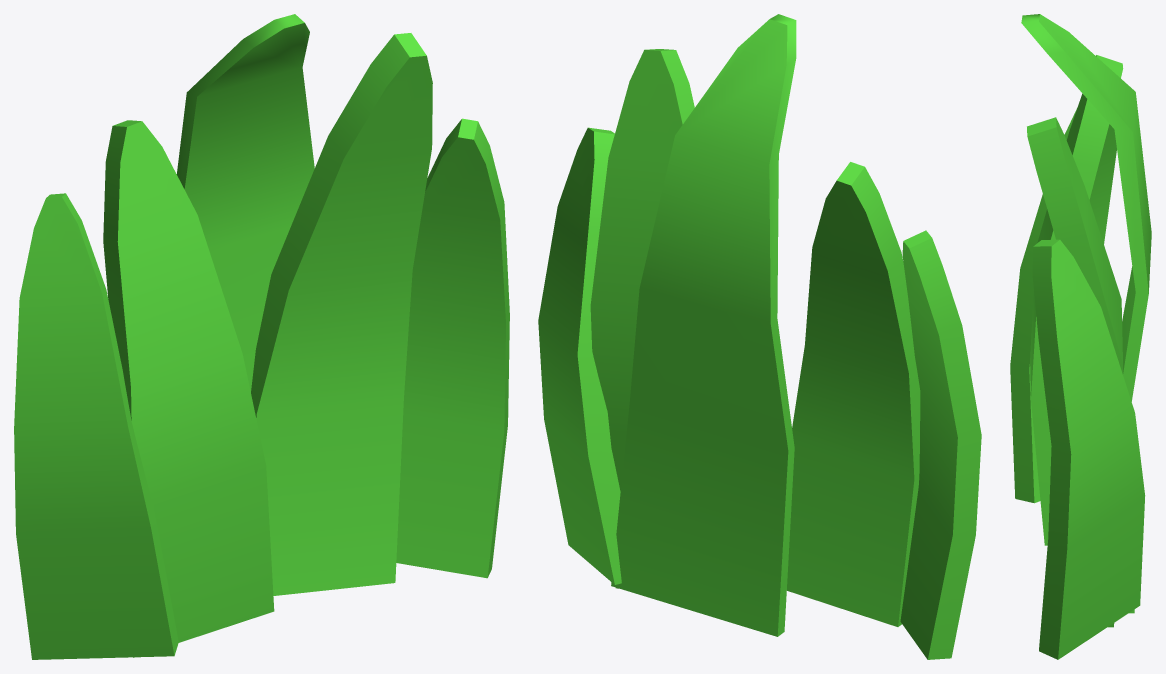
File: grass2.fbx
3 renders of one model, left to right at view 1: azimuth 30°, elevation 25°; view 2: azimuth 150°, elevation 25°; view 3: azimuth 270°, elevation 25°, orthographic. The views are drawn at different scales.
Parts seen in each view (by area): view 1: grass2; view 2: grass2; view 3: grass2.
Boxes of the visible parts, bbox=[...] form: grass2: bbox=[14, 14, 509, 659]; grass2: bbox=[538, 14, 981, 659]; grass2: bbox=[1010, 14, 1151, 659].
Size of the model in its own units: 0.3483 by 0.4207 by 0.0979.
